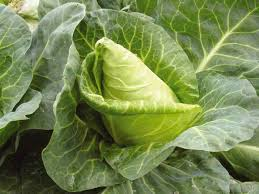cabbage: (87, 42, 208, 152)
